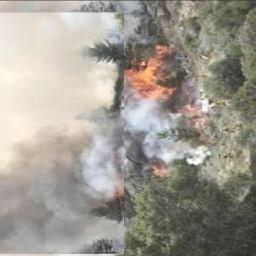Heavy smoke: (0, 12, 125, 252)
Medium fire: (125, 46, 210, 176)
